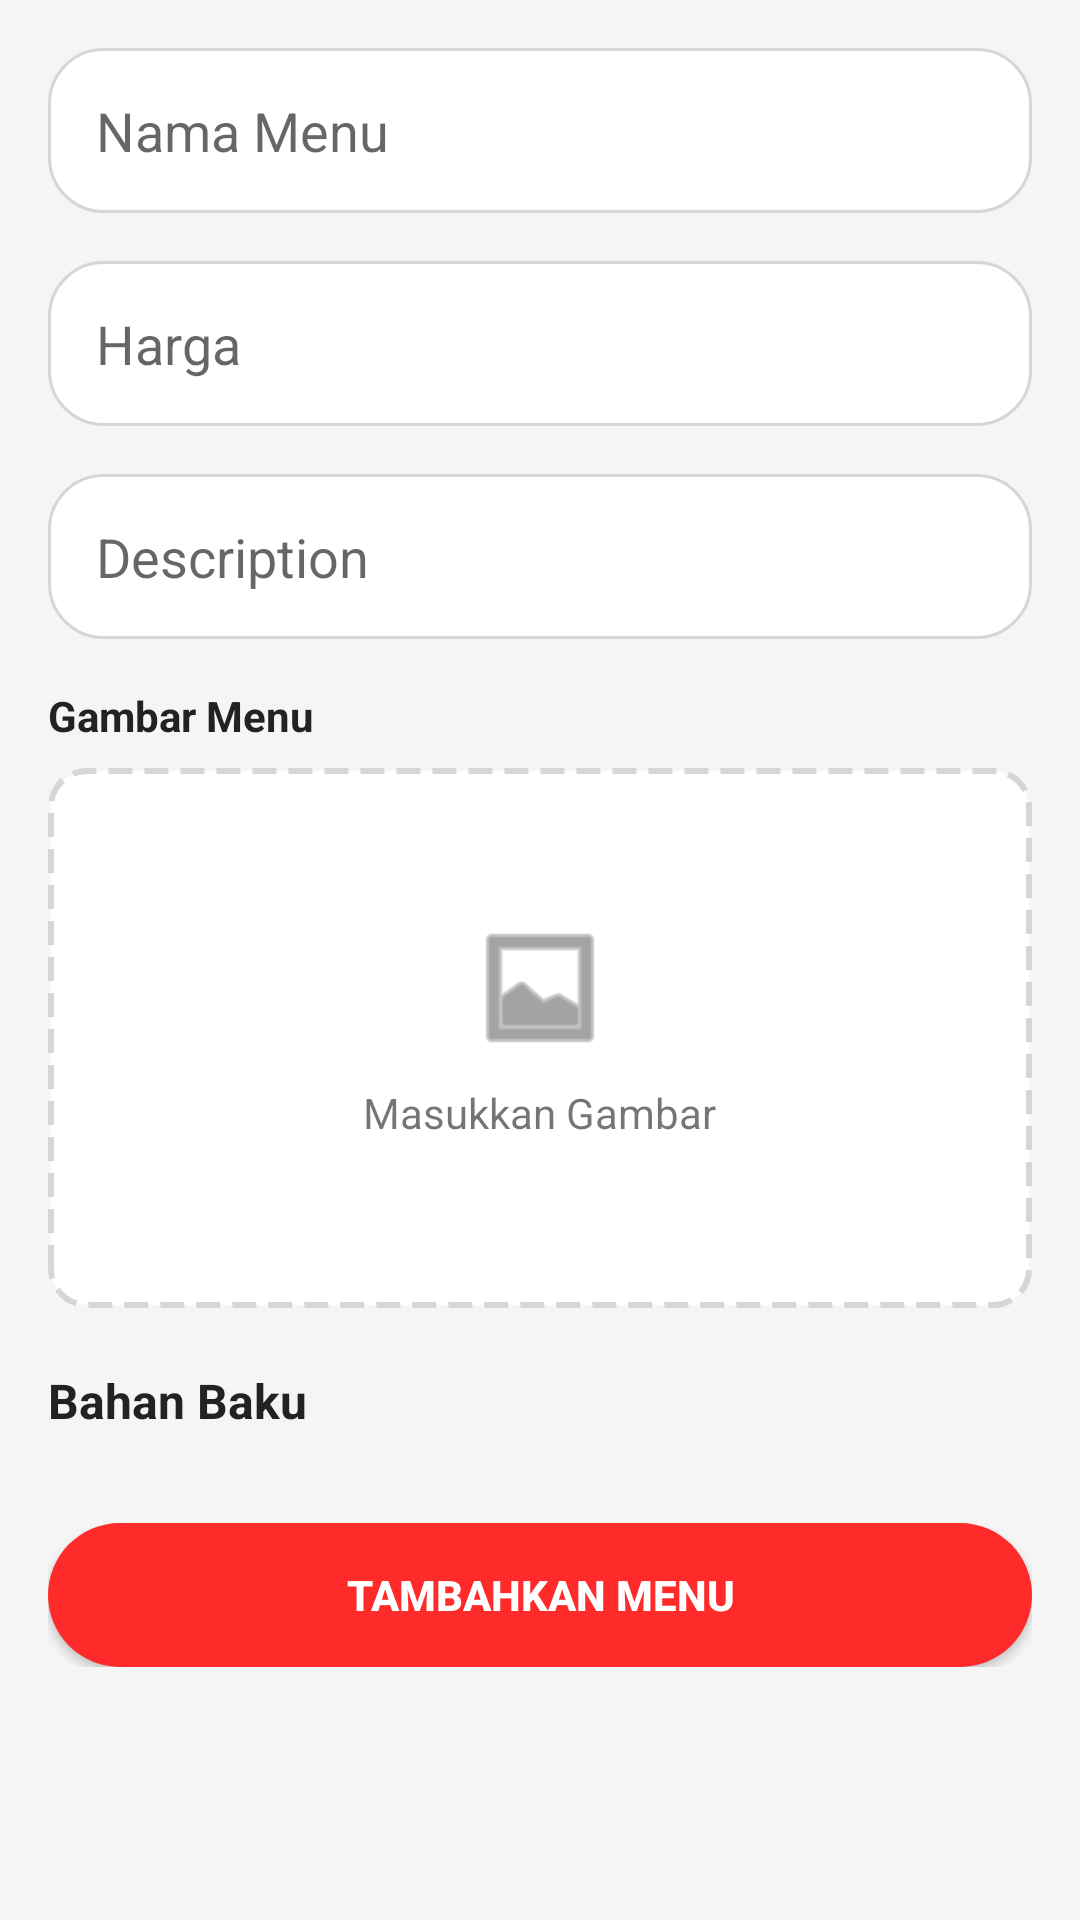

Point at icon controls on the screen. Image size 1080*1920, points as [x,y].
gallery: [540,988]
